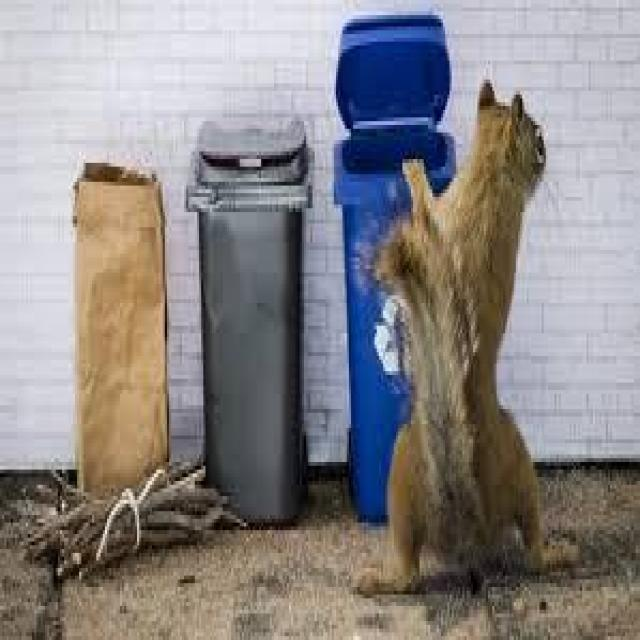license-plate: (366, 69, 560, 603)
